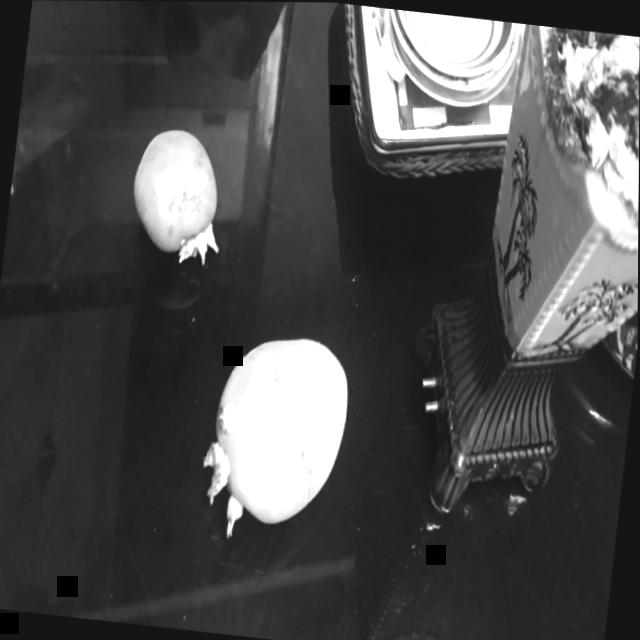potato: (189, 319, 356, 547), (124, 125, 246, 269)
